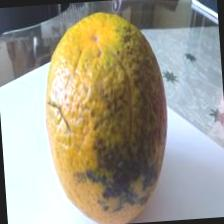Orange Rotten: (31, 0, 184, 224)
